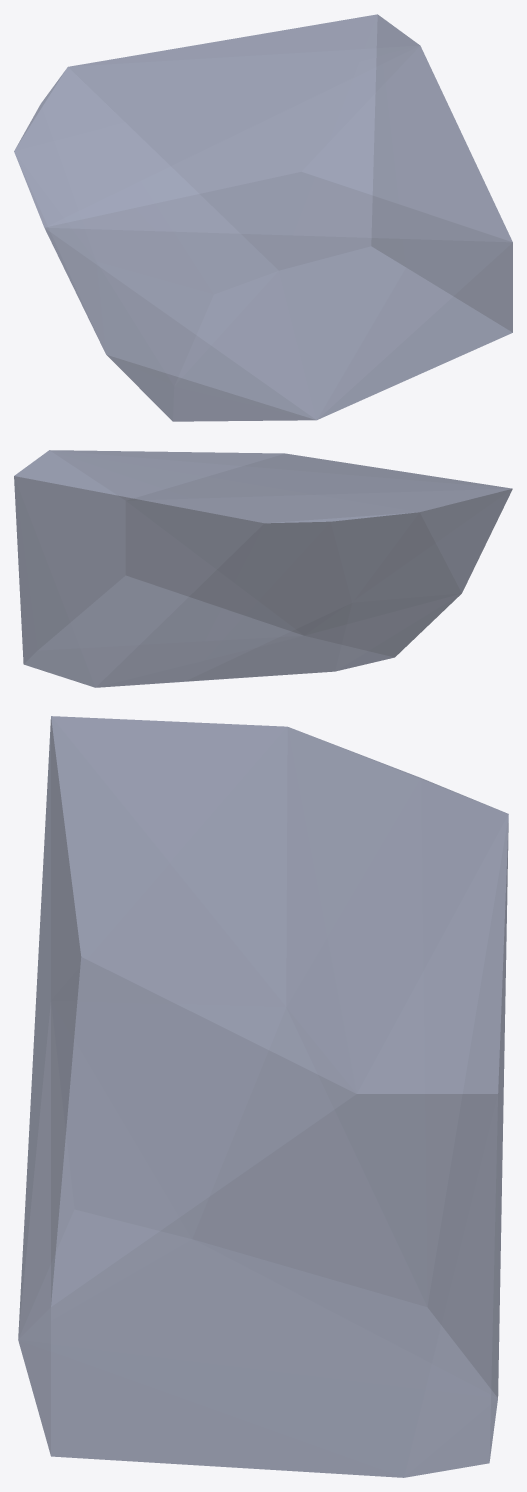
The picture shows the model from 3 angles, top to bottom: view 1: azimuth 30°, elevation 25°; view 2: azimuth 150°, elevation 25°; view 3: azimuth 270°, elevation 25°; orthographic projection. The views are drawn at different scales.
Parts seen in each view (by area): view 1: Shape_IndexedFaceSet.181_Shape_IndexedFaceSet.222; view 2: Shape_IndexedFaceSet.181_Shape_IndexedFaceSet.222; view 3: Shape_IndexedFaceSet.181_Shape_IndexedFaceSet.222.
Boxes of the visible parts, x1,y1,x2,y2 form: Shape_IndexedFaceSet.181_Shape_IndexedFaceSet.222: (14, 14, 512, 421); Shape_IndexedFaceSet.181_Shape_IndexedFaceSet.222: (14, 450, 512, 687); Shape_IndexedFaceSet.181_Shape_IndexedFaceSet.222: (18, 716, 508, 1477).
Bounding box in the file's own units: 0.2913 × 0.1599 × 0.1598.
